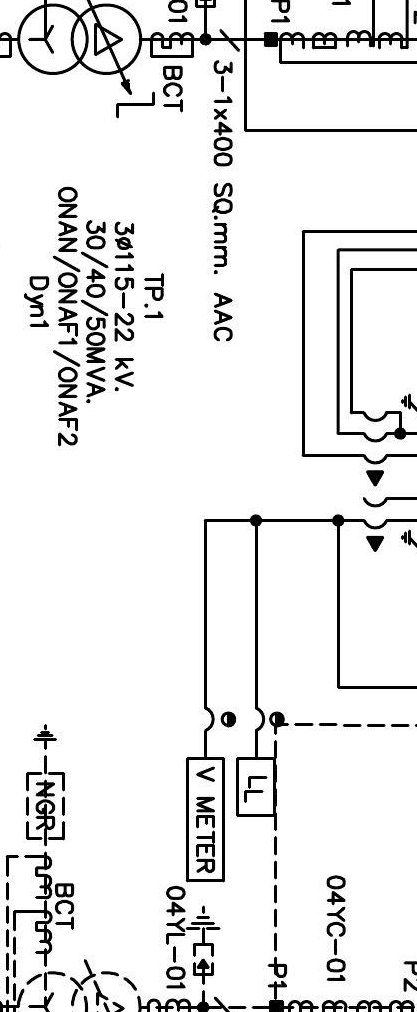11522_tx_dyn1: (16, 3, 143, 76)
LL: (235, 756, 276, 818)
v_m_digital: (185, 756, 226, 883)
